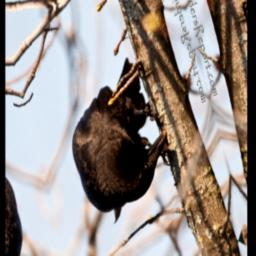Crow: (55, 46, 183, 241)
